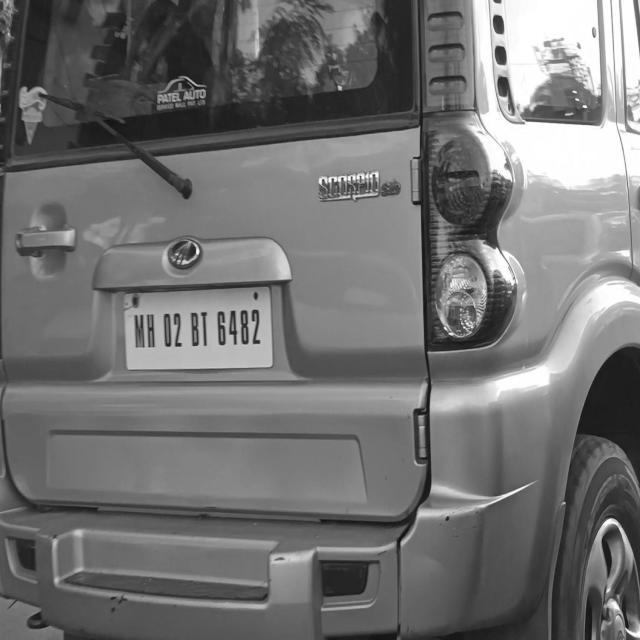license-plate: (123, 282, 274, 372)
